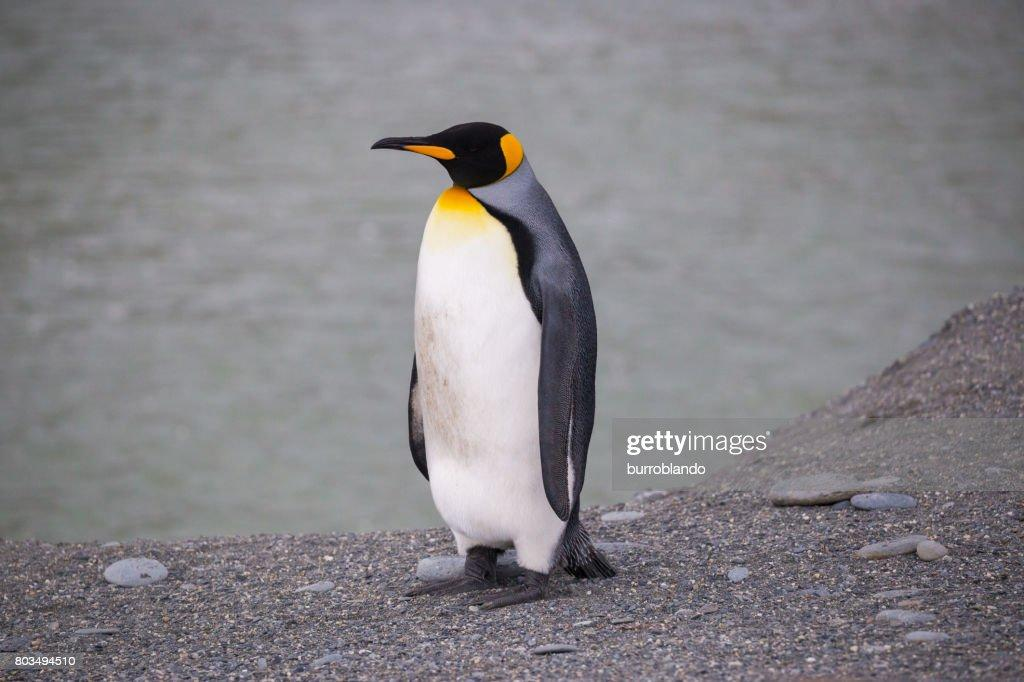king: (341, 96, 677, 607)
